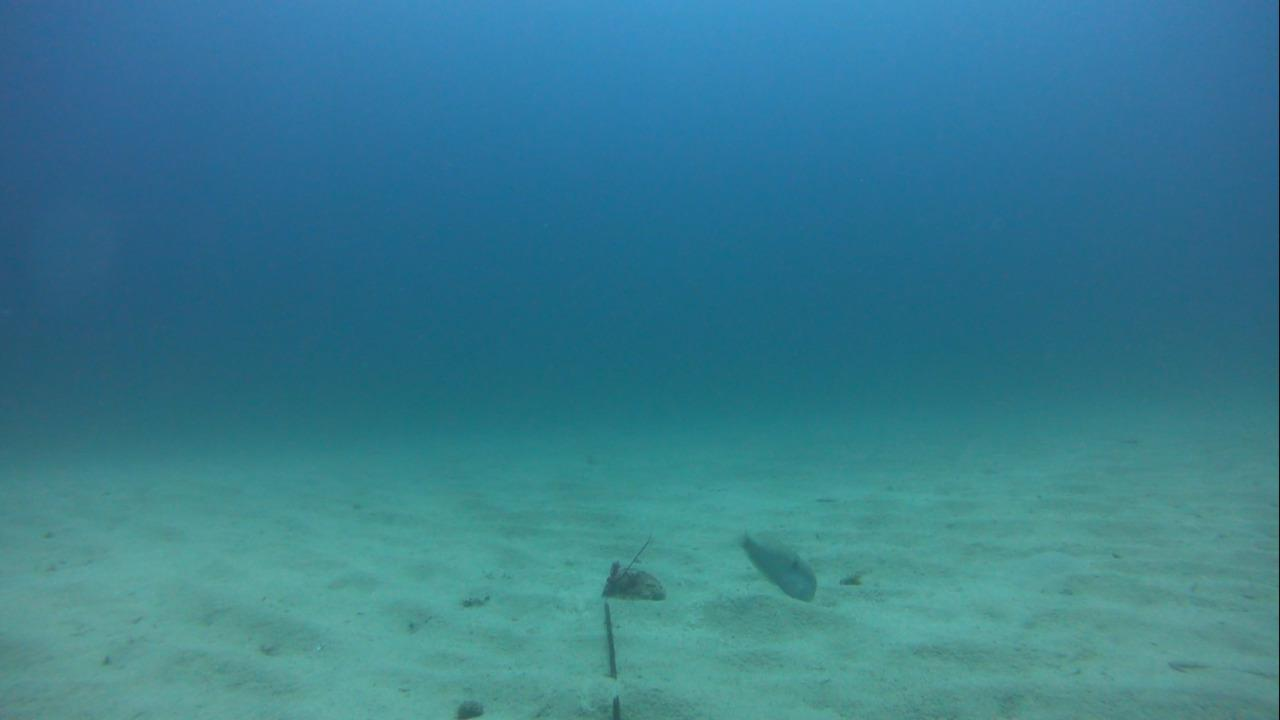raor: (726, 525, 819, 605)
